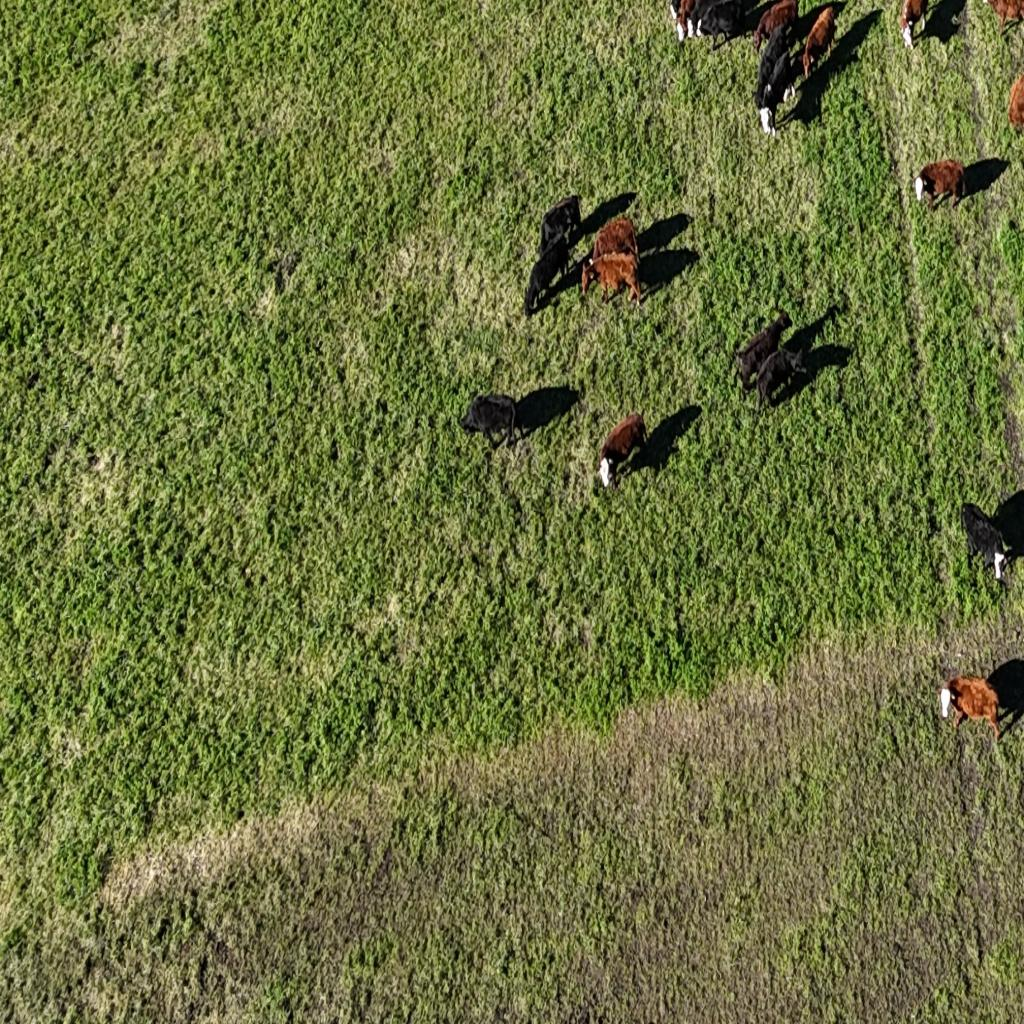cow: (759, 324, 818, 404), (938, 674, 1002, 743), (733, 311, 791, 380), (598, 414, 647, 492), (524, 232, 571, 313), (460, 392, 518, 452), (581, 252, 642, 303), (760, 50, 796, 136), (752, 26, 786, 114), (961, 503, 1008, 564), (801, 4, 837, 80), (914, 158, 966, 210), (752, 0, 798, 56), (694, 0, 747, 48), (540, 194, 581, 248), (592, 209, 638, 257), (984, 1, 1024, 39), (899, 0, 927, 50), (670, 0, 699, 43)
